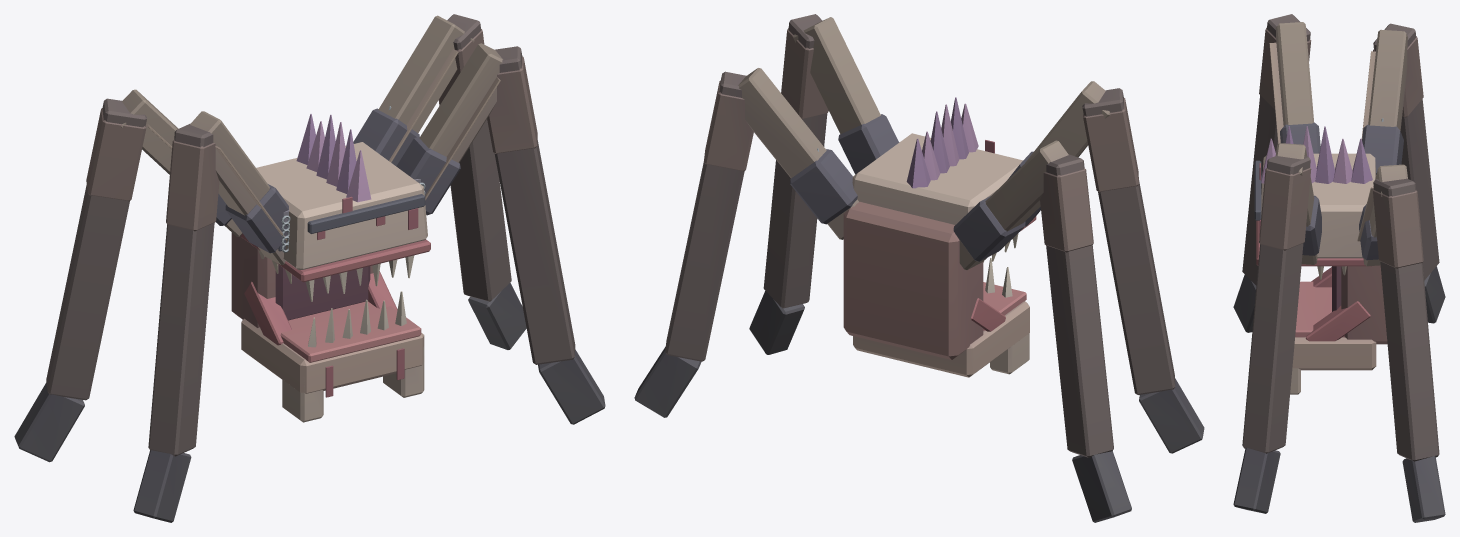
Rendered from PrimitiveSummonerPunk.glb.
3 renders of one model, left to right at view 1: azimuth 30°, elevation 25°; view 2: azimuth 150°, elevation 25°; view 3: azimuth 270°, elevation 25°, orthographic. The views are drawn at different scales.
Parts seen in each view (by area): view 1: Body, ArmR, ArmL, LegR, LegL, Head; view 2: Body, LegR, LegL, ArmR, ArmL, Head; view 3: ArmL, LegL, Body, LegR, ArmR, Head.
Boxes of the visible parts, x1,y1,x2,y2 form: Body: (231, 114, 430, 327); ArmR: (133, 111, 288, 522); ArmL: (396, 43, 605, 424); LegR: (14, 89, 242, 462); LegL: (353, 14, 526, 349); Head: (241, 271, 424, 422); Body: (843, 97, 1036, 359); LegR: (953, 140, 1131, 522); LegL: (634, 68, 858, 417); ArmR: (1007, 81, 1204, 453); ArmL: (749, 14, 898, 354); Head: (853, 258, 1029, 377); ArmL: (1233, 143, 1321, 513); LegL: (1357, 164, 1445, 522); Body: (1254, 126, 1387, 344); LegR: (1361, 23, 1445, 323); ArmR: (1233, 14, 1320, 332); Head: (1290, 267, 1376, 394).
Size of the model in its own units: 10.01 by 6.99 by 3.98.
